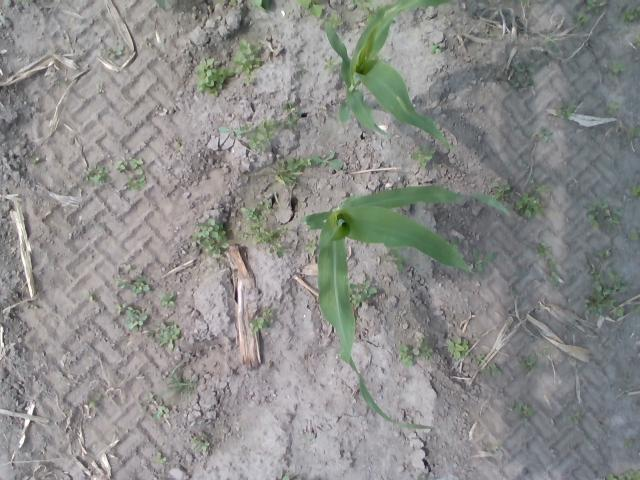Maize: (302, 183, 508, 429), (324, 0, 463, 156)
Weeds: (239, 194, 289, 256), (584, 266, 626, 317), (241, 116, 284, 152), (194, 58, 234, 96), (189, 218, 228, 256), (232, 38, 262, 83), (114, 158, 148, 192), (586, 197, 622, 229), (115, 264, 151, 296), (534, 242, 560, 284), (274, 157, 311, 186), (346, 274, 377, 308), (147, 320, 181, 350), (139, 391, 169, 421), (115, 303, 146, 331), (514, 192, 544, 220), (508, 64, 537, 88), (352, 0, 382, 23), (472, 246, 496, 274), (82, 162, 110, 186), (250, 306, 274, 332), (476, 354, 502, 378), (310, 150, 344, 168), (166, 374, 194, 395), (385, 247, 409, 270), (410, 146, 435, 168), (447, 336, 472, 358), (282, 102, 301, 130), (490, 179, 512, 202), (412, 336, 433, 360), (296, 0, 323, 18), (319, 12, 344, 31), (510, 400, 535, 416), (398, 344, 414, 368), (606, 469, 640, 480), (556, 102, 576, 119), (218, 125, 244, 138), (192, 434, 210, 452), (574, 10, 592, 28), (530, 178, 550, 194), (620, 6, 640, 22), (585, 0, 606, 15), (444, 236, 461, 254), (520, 354, 537, 372), (608, 58, 626, 74), (160, 291, 176, 307), (104, 45, 125, 57), (537, 126, 552, 142), (302, 238, 318, 253), (323, 57, 339, 72), (248, 0, 268, 12), (153, 0, 175, 10), (593, 247, 612, 258), (154, 451, 168, 464), (570, 410, 582, 424), (608, 100, 621, 112), (543, 36, 554, 50), (628, 229, 640, 241), (483, 27, 495, 39), (631, 183, 640, 199), (629, 126, 640, 138), (429, 43, 442, 53), (629, 304, 640, 313), (143, 37, 153, 46), (371, 52, 382, 60), (88, 398, 98, 406), (27, 156, 38, 163), (625, 438, 633, 446), (635, 34, 640, 46), (174, 140, 181, 148), (280, 475, 290, 480), (542, 348, 548, 356), (522, 0, 530, 5), (230, 0, 238, 5)
